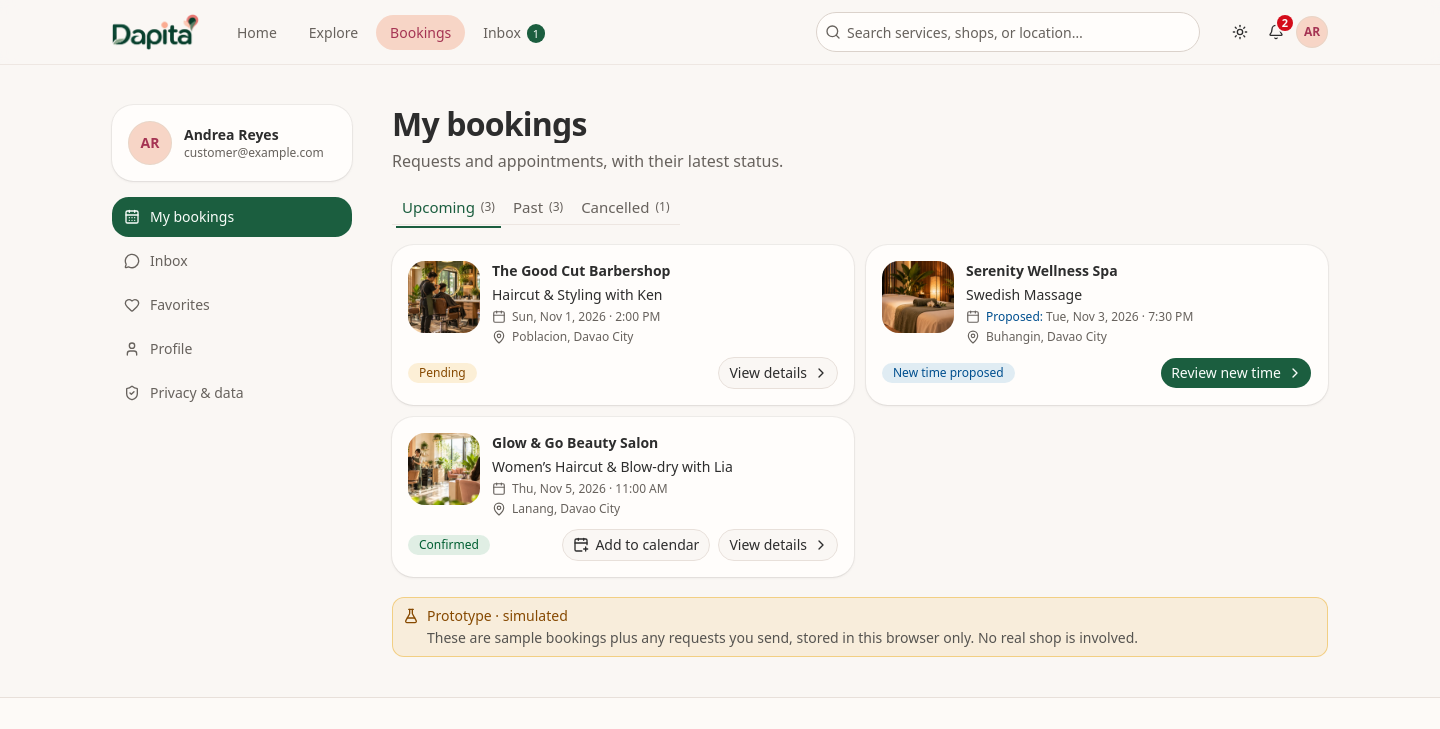
customer area › opens the booking a notification is about
This screenshot has width=1440, height=729.
Note: The proposed time and Serenity's unread message.
Click the button named "Notifications, 2 unread": (1276, 32) top-left (1260, 16), bottom-right (1292, 48)
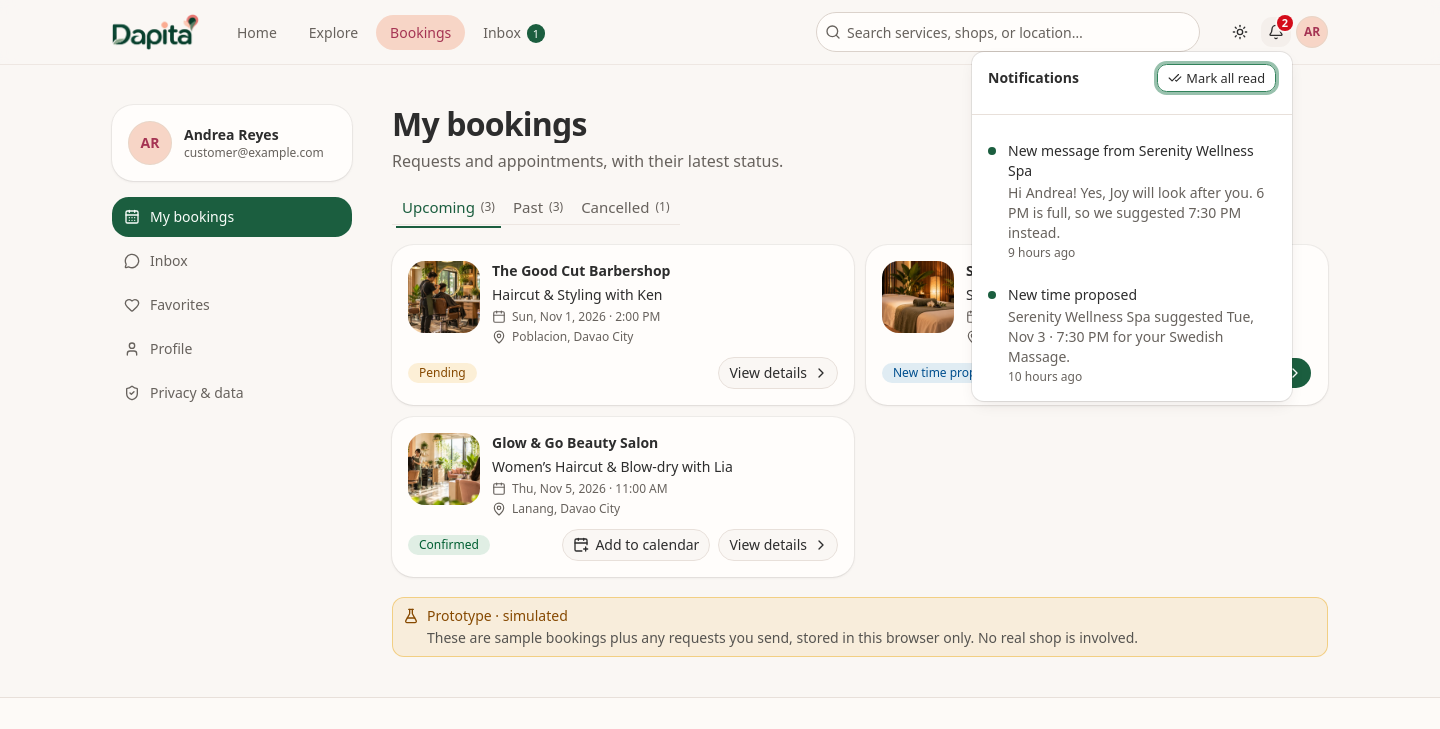
Click the link "New time proposed": (1121, 334) top-left (988, 284), bottom-right (1254, 385)
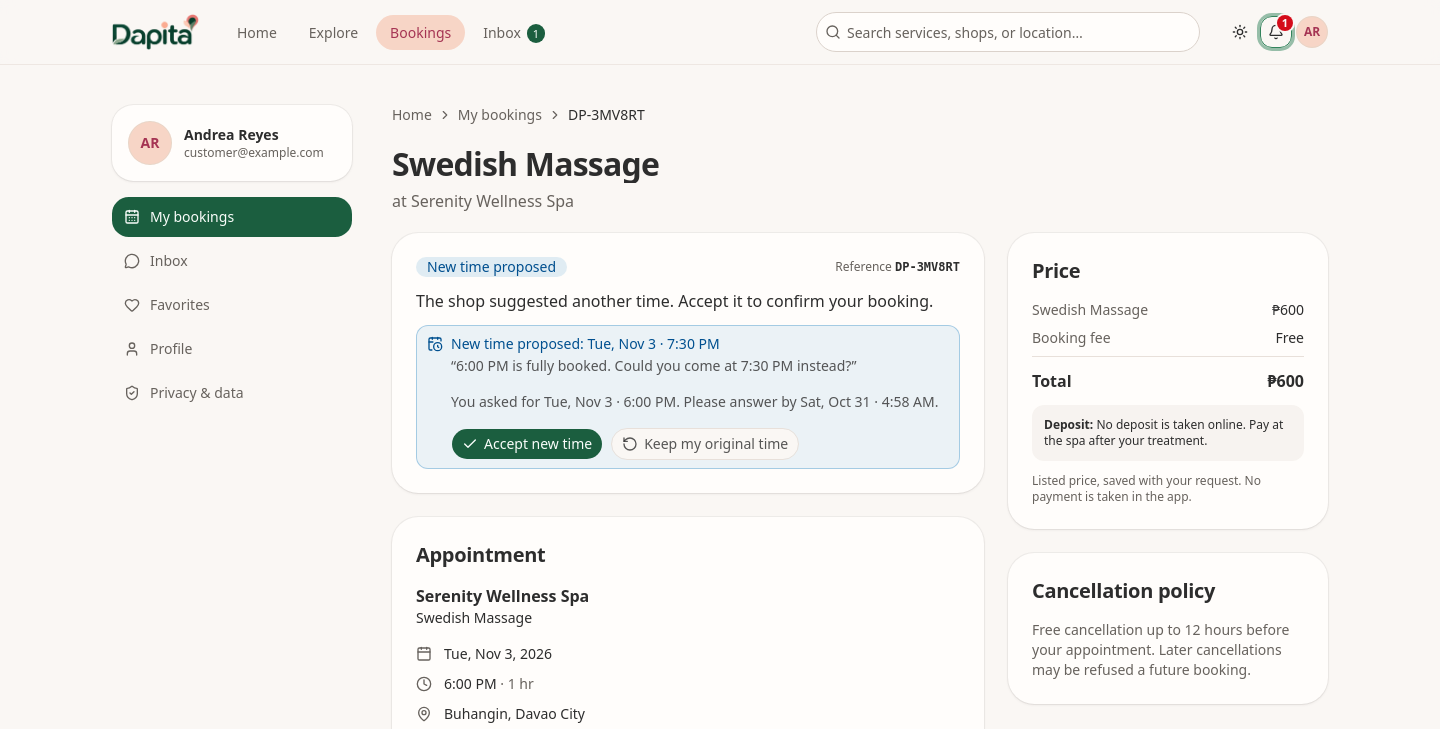
Check: the heading "Swedish Massage" is shown, box top-left (392, 142), bottom-right (659, 185)
Check: the button named "Notifications, 1 unread" is shown, box top-left (1260, 16), bottom-right (1292, 48)
